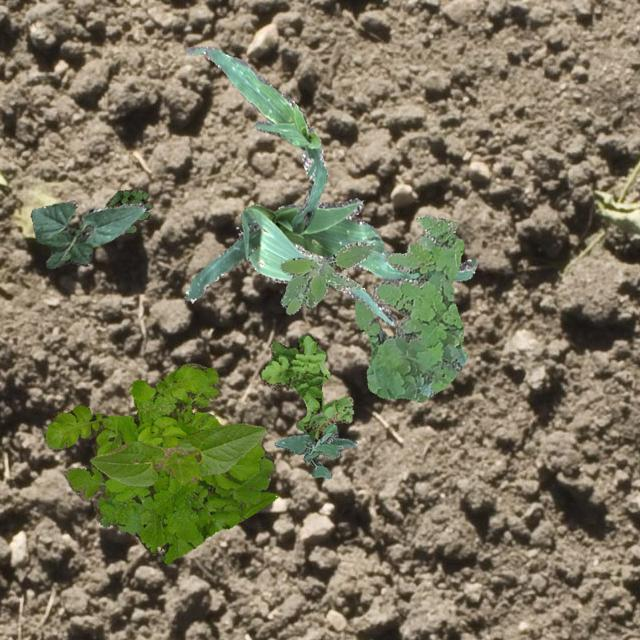crop: (184, 198, 476, 324), (185, 46, 326, 232), (88, 422, 266, 486), (29, 200, 144, 268)
weed: (44, 362, 276, 562), (354, 214, 466, 400), (260, 334, 352, 442), (278, 240, 374, 314), (274, 422, 356, 478), (104, 188, 150, 232)
